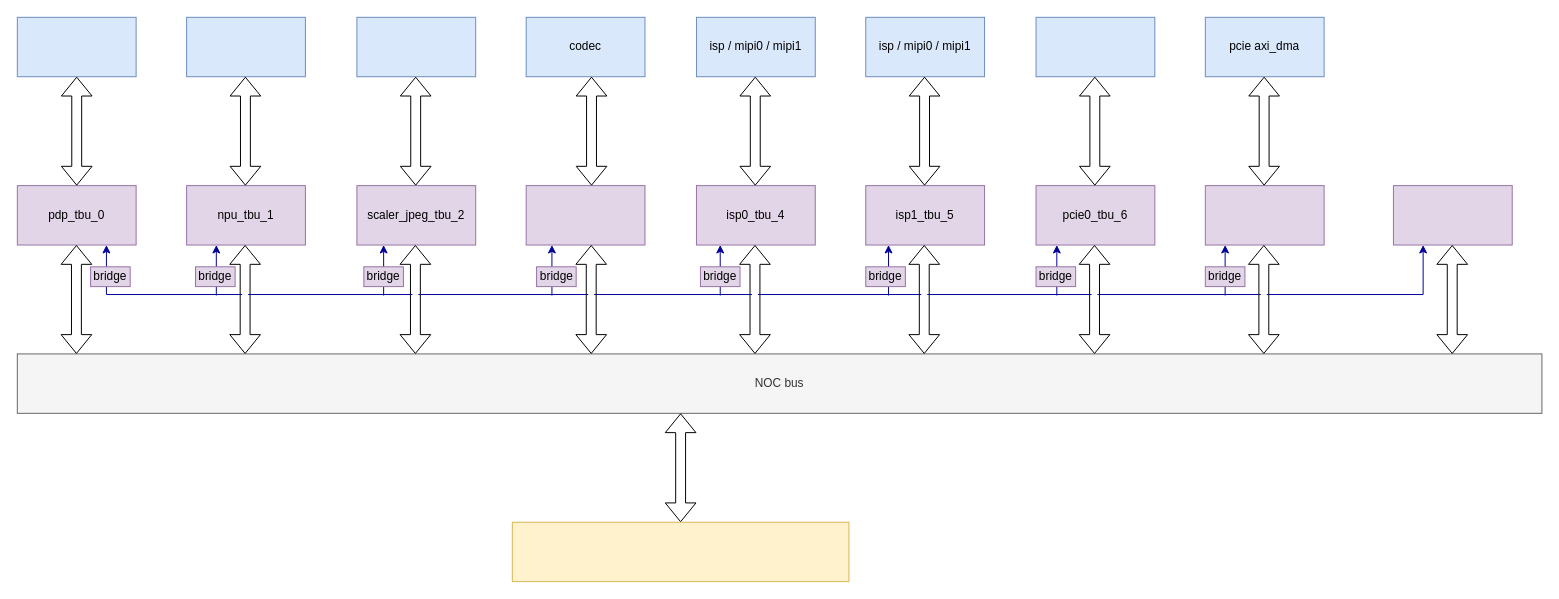
Some shapes in this 1559 by 599 pixel diagram are drawn without their labels. The shapes that lost their labels are listed below. From the top down, each one's box as (x1, y1, x2, y2) in pixels, then its label:
(16, 16, 136, 77): pdp / audio
(186, 16, 305, 77): npu
(356, 16, 476, 77): scaler / jpeg
(1035, 16, 1155, 77): pcie
(525, 185, 645, 245): vpu_tbu_3
(1204, 185, 1324, 245): pcie1_tbu_7
(1392, 185, 1512, 245): tcu
(511, 521, 849, 582): DDR
